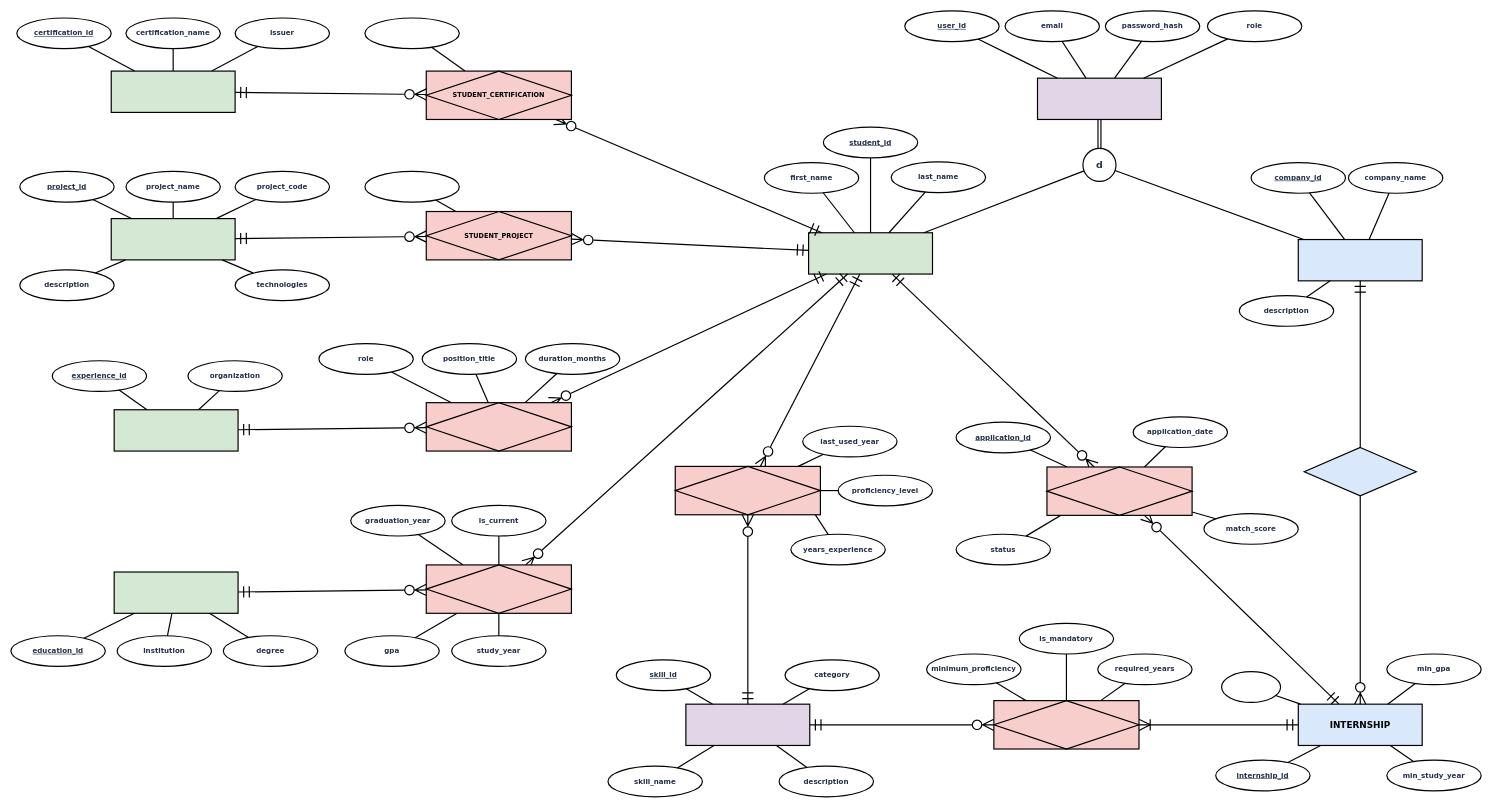
Image size: 1492x807. Some labels were removed from this diagram. Here are the shapes that lost their labels. From the top down, the centre of each, then its label:
[412,33]: issue_date
[172,91]: CERTIFICATION
[1099,98]: USER
[412,186]: project_role
[172,239]: PROJECT
[870,253]: STUDENT
[1359,260]: COMPANY
[175,430]: EXPERIENCE
[498,426]: STUDENT_EXPERIENCE
[747,490]: STUDENT_SKILL
[1119,491]: APPLICATION
[1360,471]: POSTS
[175,592]: EDUCATION
[498,589]: STUDENT_EDUCATION
[1251,687]: title
[747,724]: SKILL
[1066,724]: INTERNSHIP_SKILL
